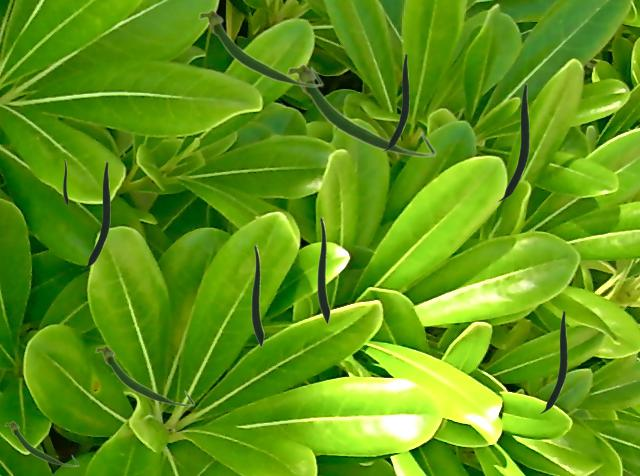french_bean: (286, 63, 436, 157), (197, 9, 323, 87), (94, 344, 194, 406), (497, 83, 528, 200), (4, 420, 78, 466), (81, 161, 109, 268), (540, 310, 566, 412), (383, 53, 408, 150), (317, 216, 329, 323), (251, 244, 263, 346), (63, 159, 67, 204)
